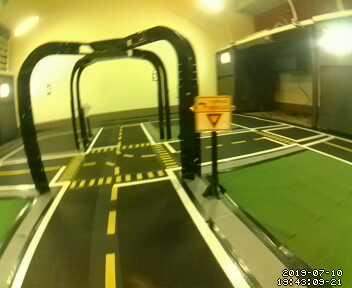Turn Yield: (194, 95, 231, 134)
